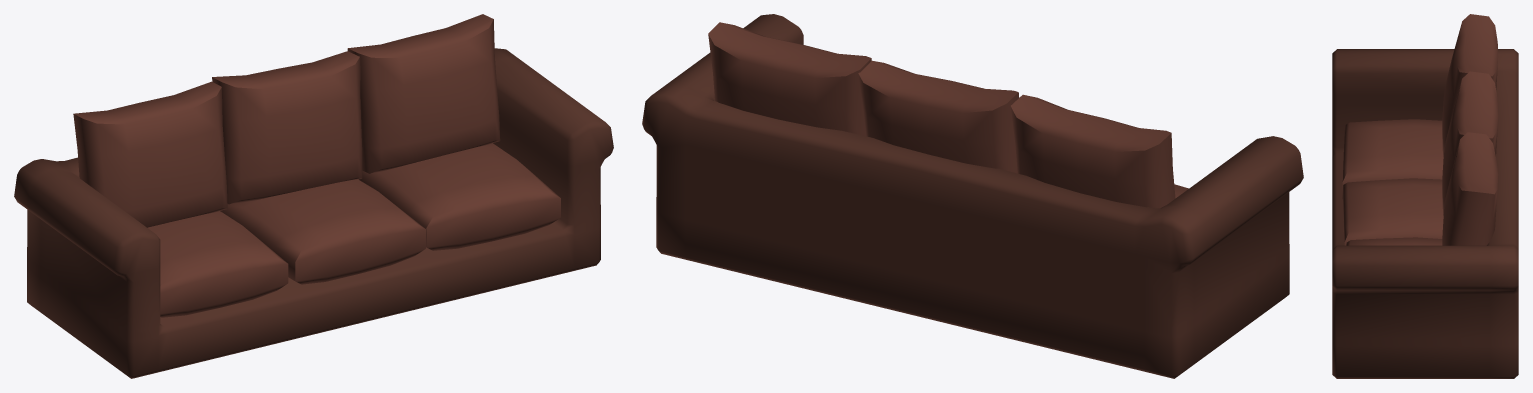
The model's file is Couch_Large1.glb.
The picture shows the model from 3 angles, left to right: view 1: azimuth 30°, elevation 25°; view 2: azimuth 150°, elevation 25°; view 3: azimuth 270°, elevation 25°; orthographic projection. The views are drawn at different scales.
Visible parts, largest first — view 1: Couch_Large1; view 2: Couch_Large1; view 3: Couch_Large1.
Boxes of the visible parts, x1=… form: Couch_Large1: x1=14, y1=14, x2=613, y2=378; Couch_Large1: x1=642, y1=14, x2=1303, y2=378; Couch_Large1: x1=1332, y1=14, x2=1518, y2=378.
Bounding box in the file's own units: 2.68 × 1.03 × 0.9742.
Materials: 2 (2 with a texture image).
